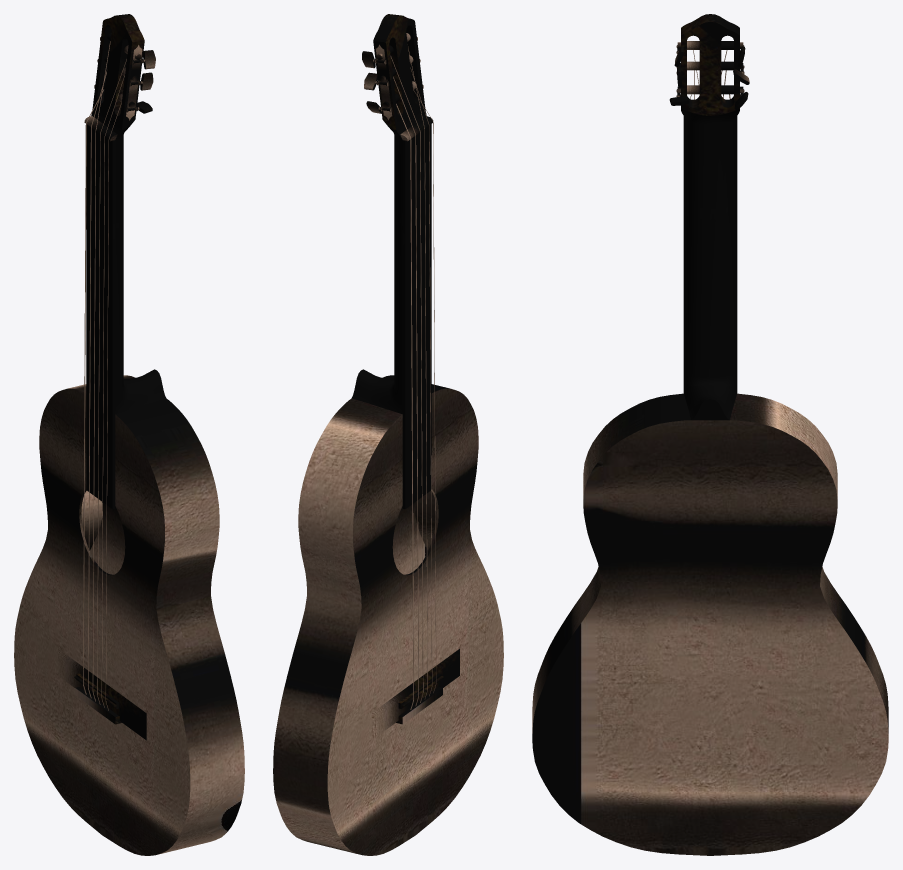
3 views of the same model, side by side, from view 1: azimuth 30°, elevation 25°; view 2: azimuth 150°, elevation 25°; view 3: azimuth 270°, elevation 25° (orthographic).
Parts seen in each view (by area): view 1: Guitar_WIP_0; view 2: Guitar_WIP_0; view 3: Guitar_WIP_0.
Part boxes in pixels (<box>): Guitar_WIP_0: <box>14,14,244,855</box>; Guitar_WIP_0: <box>273,14,503,855</box>; Guitar_WIP_0: <box>532,14,888,855</box>.
Bounding box in the file's own units: 11.63 × 143 × 56.01.
